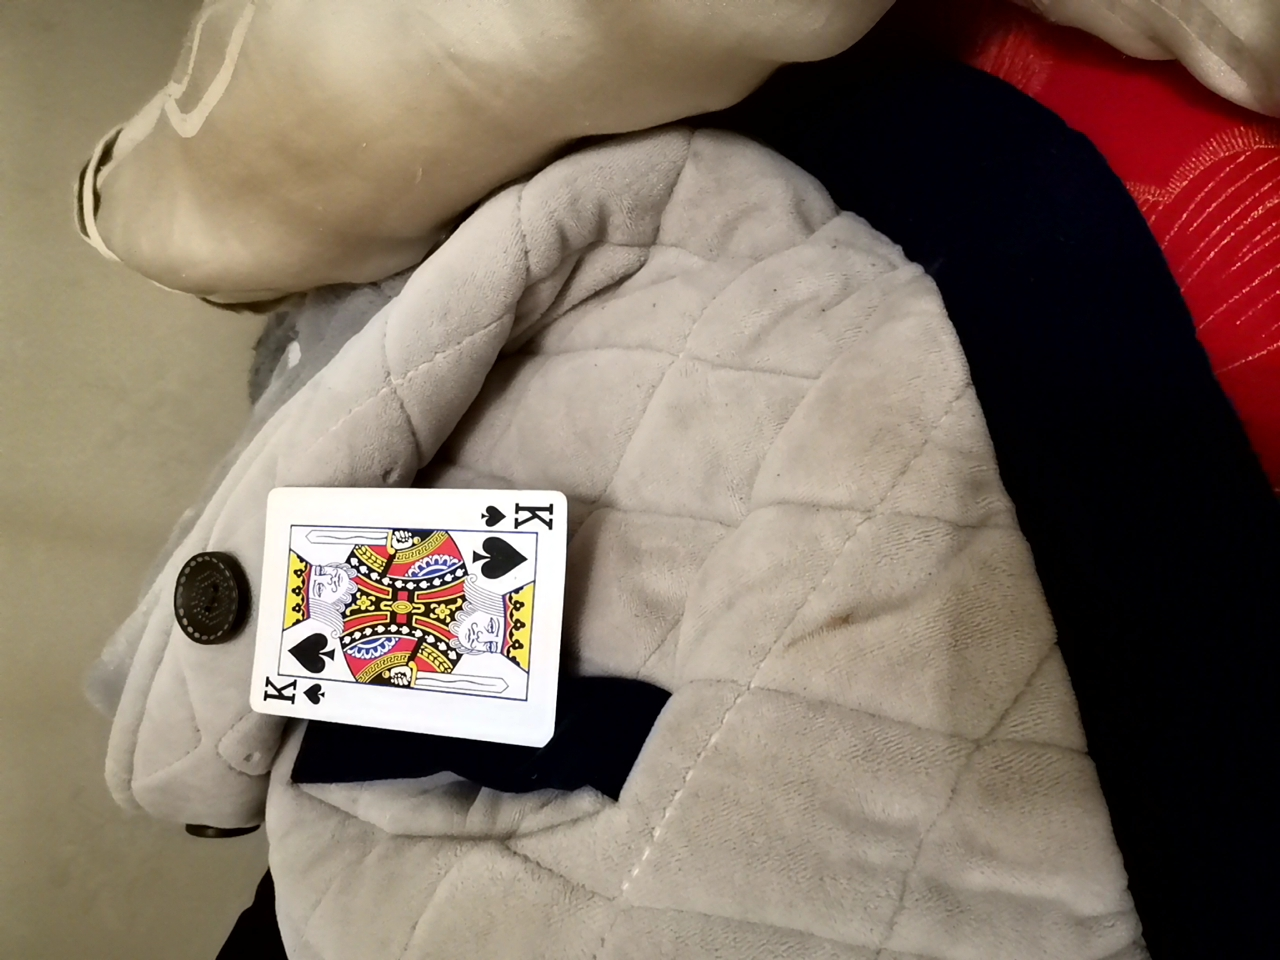ht k: (212, 488, 572, 753)
